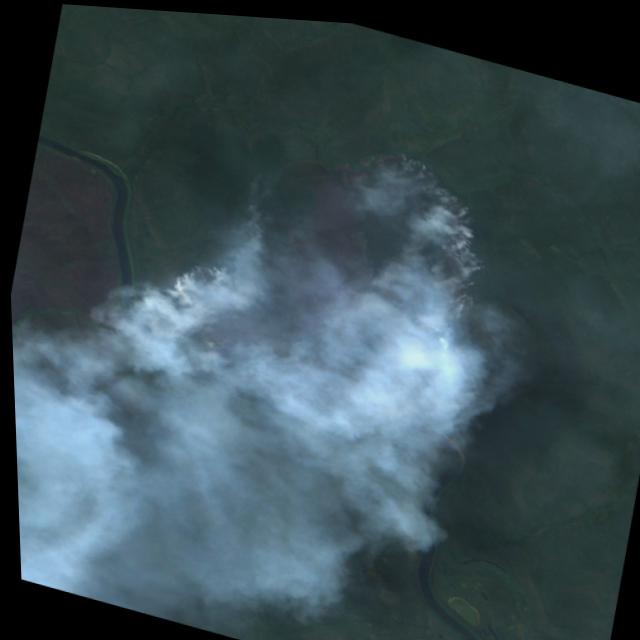fire: (108, 81, 547, 450)
